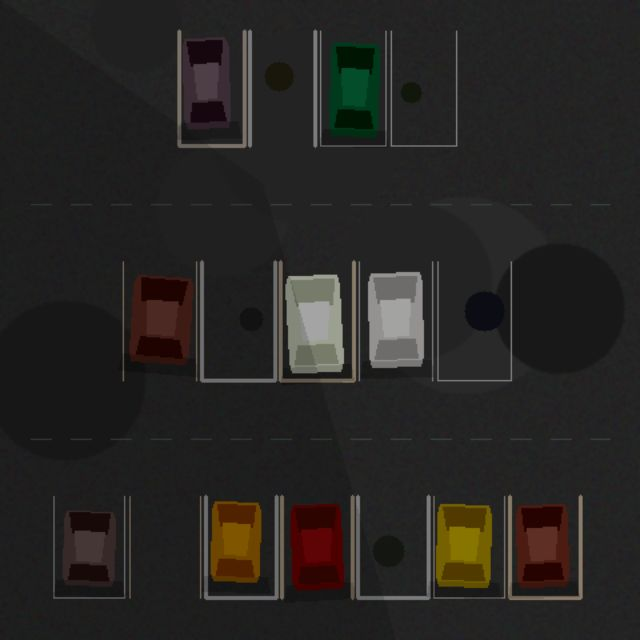space-empty: (201, 261, 275, 380), (437, 261, 511, 380), (249, 31, 315, 145), (391, 31, 456, 145), (129, 496, 200, 597), (357, 496, 428, 597)
space-occupied: (123, 261, 196, 380), (280, 261, 353, 380), (359, 261, 432, 380), (179, 31, 244, 145), (320, 31, 385, 145), (53, 496, 124, 597), (205, 496, 276, 597), (281, 496, 352, 597), (433, 496, 504, 597), (509, 496, 580, 597)
